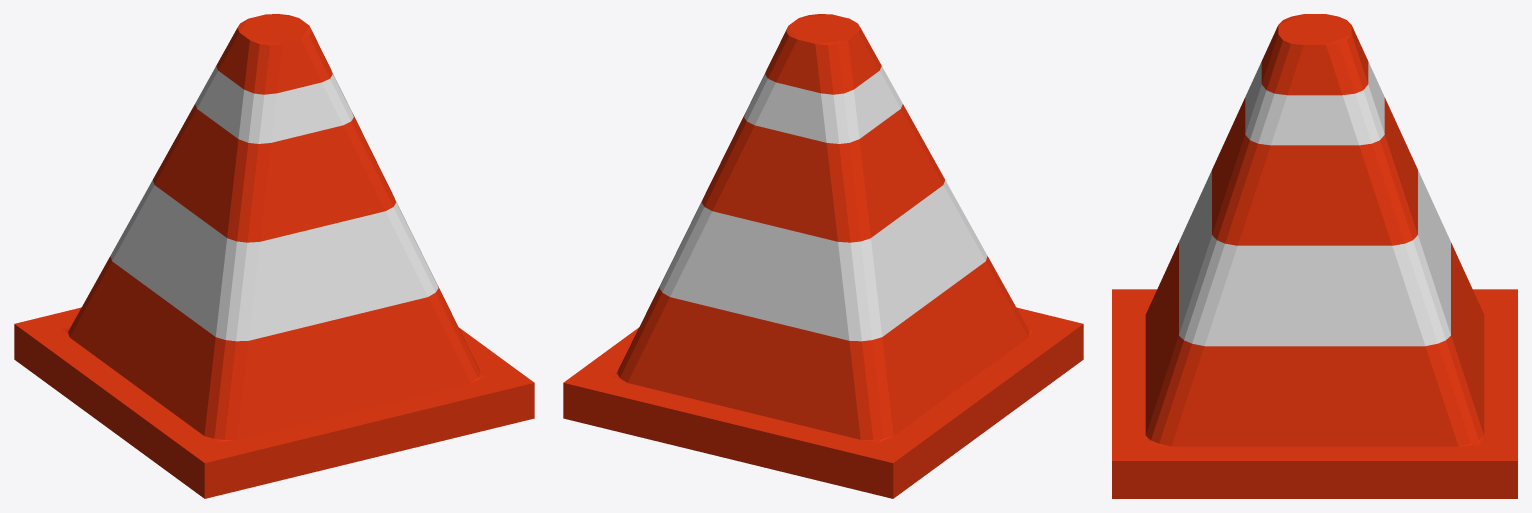
File: TrafficBollard1.fbx
The picture shows the model from 3 angles, left to right: view 1: azimuth 30°, elevation 25°; view 2: azimuth 150°, elevation 25°; view 3: azimuth 270°, elevation 25°; orthographic projection. The views are drawn at different scales.
Parts seen in each view (by area): view 1: Cube; view 2: Cube; view 3: Cube.
Boxes of the visible parts, x1=… form: Cube: x1=14, y1=14, x2=534, y2=498; Cube: x1=563, y1=14, x2=1083, y2=498; Cube: x1=1112, y1=14, x2=1517, y2=498.
Bounding box in the file's own units: 200 × 209 × 200.
